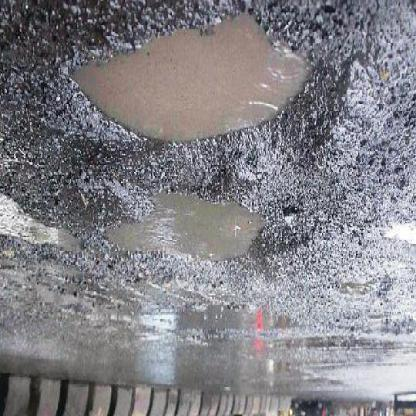pothole: (64, 11, 344, 167), (100, 190, 284, 281)
